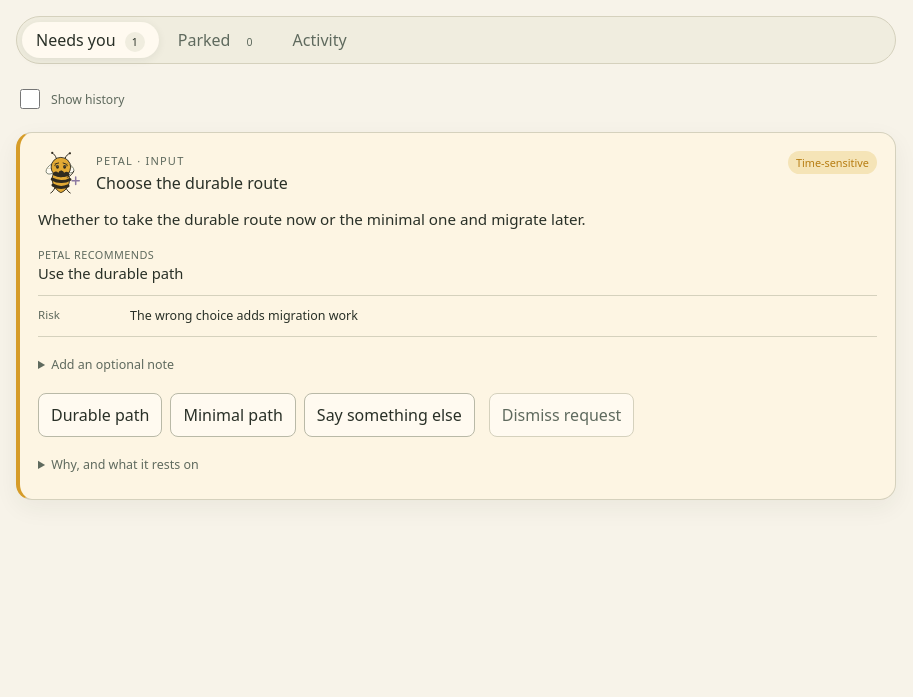
Test: will not send an empty answer in place of a button
Step 1. Click the button "Say something else" → (389, 415), box [304,393,475,437]
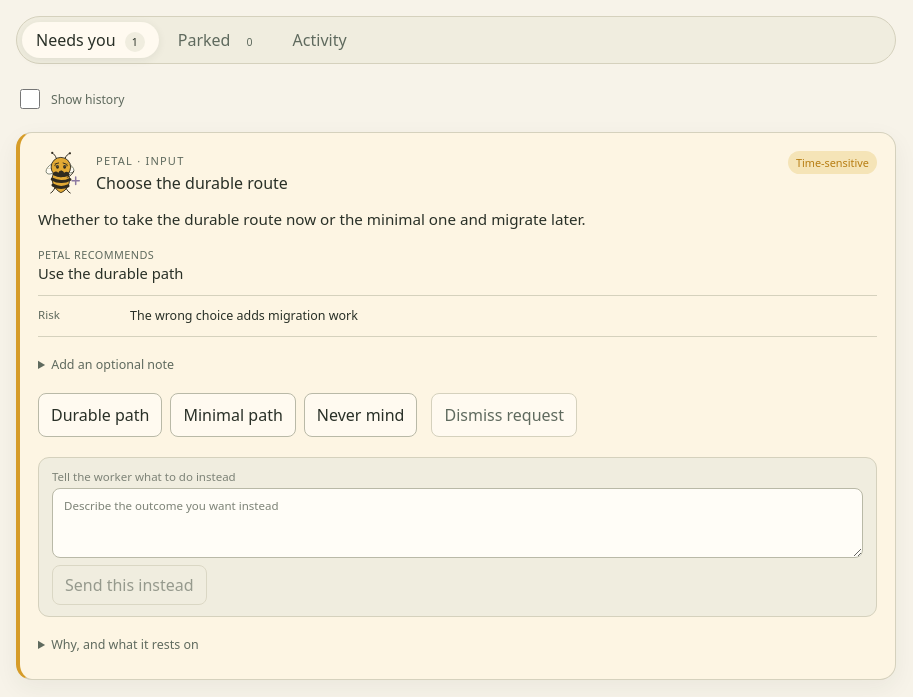
Result: the button "Send this instead" is disabled at [52,565,207,605]
